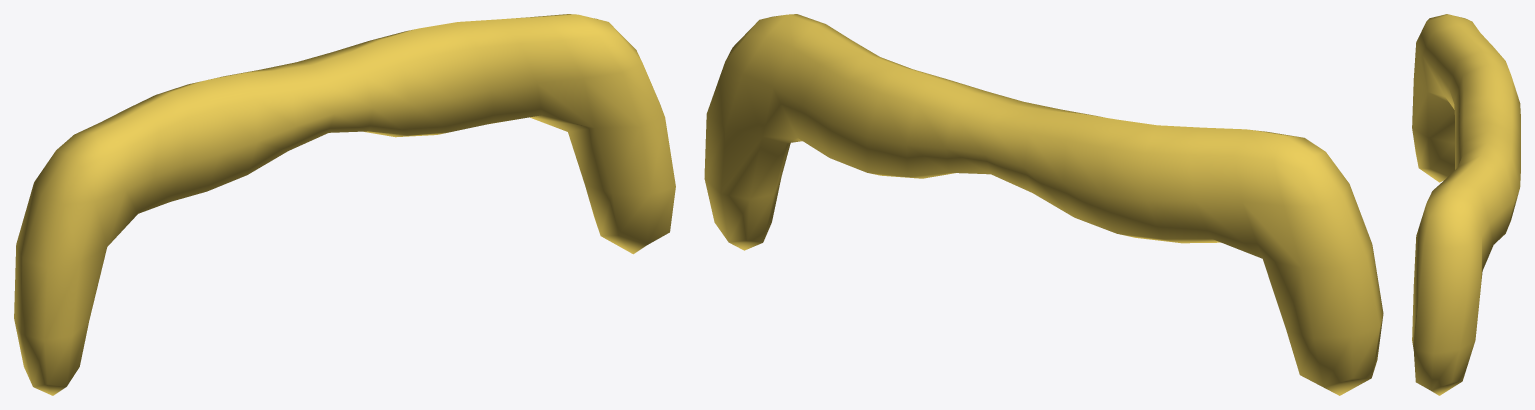
Rendered from Monster Mash - Decor 1.fbx.
3 views of the same model, side by side, from view 1: azimuth 30°, elevation 25°; view 2: azimuth 150°, elevation 25°; view 3: azimuth 270°, elevation 25° (orthographic). The views are drawn at different scales.
Visible parts, largest first — view 1: Handlebar Moustache; view 2: Handlebar Moustache; view 3: Handlebar Moustache.
Part boxes in pixels (x1,y1,x2,y2): Handlebar Moustache: (14,14,675,395); Handlebar Moustache: (704,14,1383,395); Handlebar Moustache: (1412,14,1520,395).
Bounding box in the file's own units: 92.54 × 33.74 × 17.78.
